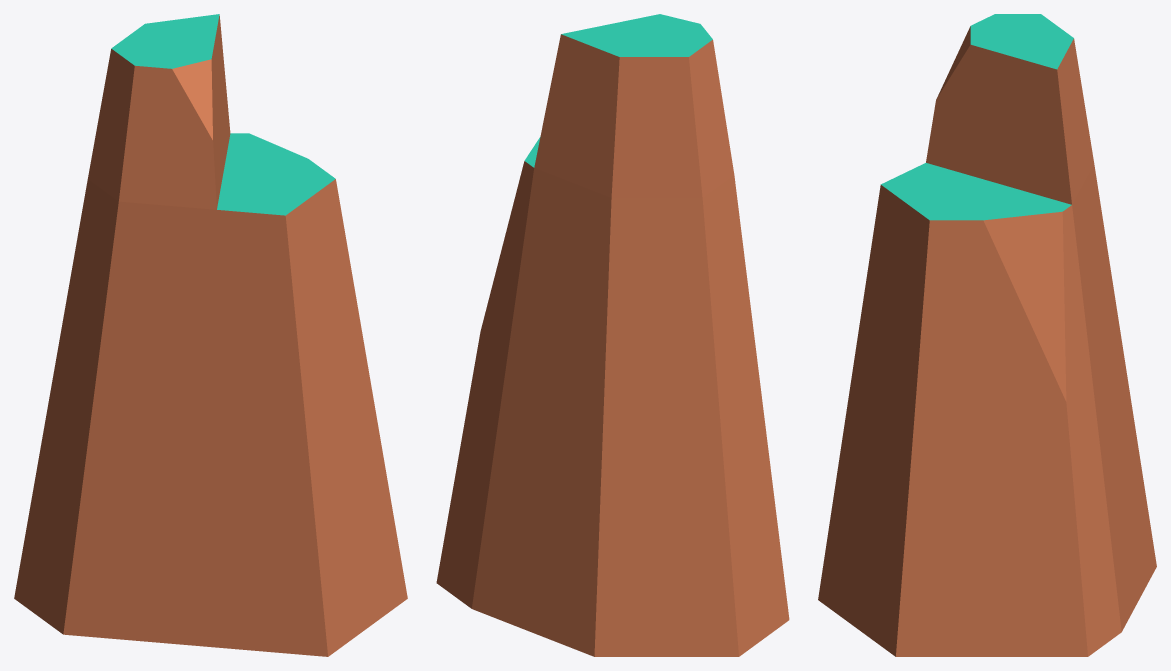
Rendered from rock_tallI.dae.
The picture shows the model from 3 angles, left to right: view 1: azimuth 30°, elevation 25°; view 2: azimuth 150°, elevation 25°; view 3: azimuth 270°, elevation 25°; orthographic projection. The views are drawn at different scales.
Parts seen in each view (by area): view 1: rock_tallI; view 2: rock_tallI; view 3: rock_tallI.
Boxes of the visible parts, x1=… form: rock_tallI: x1=14, y1=14, x2=407, y2=656; rock_tallI: x1=436, y1=14, x2=789, y2=656; rock_tallI: x1=818, y1=14, x2=1156, y2=656.
Bounding box in the file's own units: 0.4562 × 0.8118 × 0.4644.
